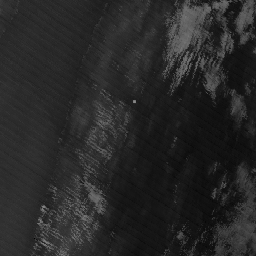Target: (131, 97, 138, 103)
